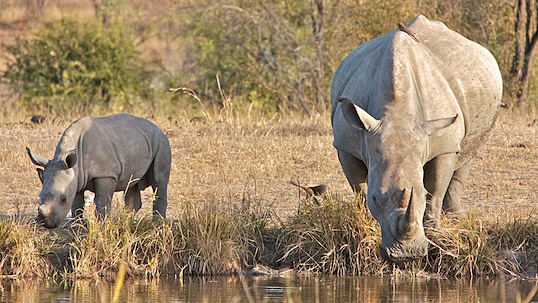rhino: (330, 16, 503, 264), (24, 112, 172, 233)
